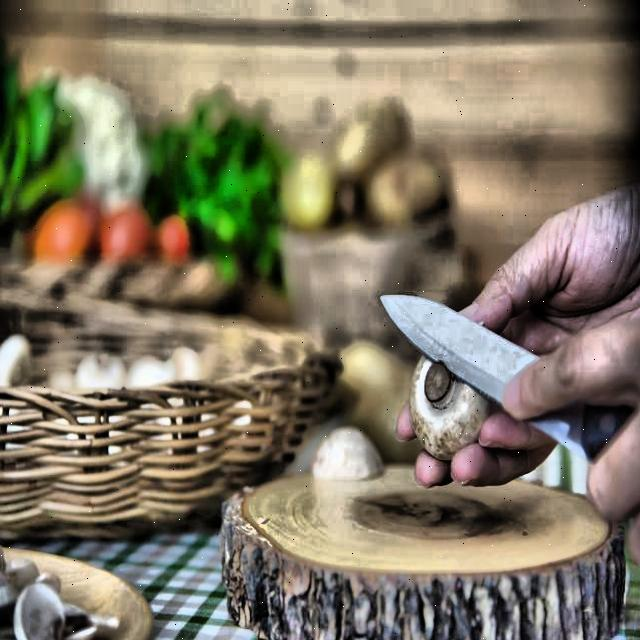knife: (376, 289, 606, 476)
